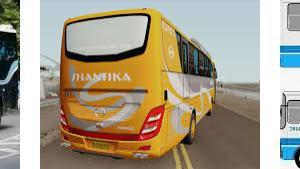bus: (58, 7, 217, 159)
